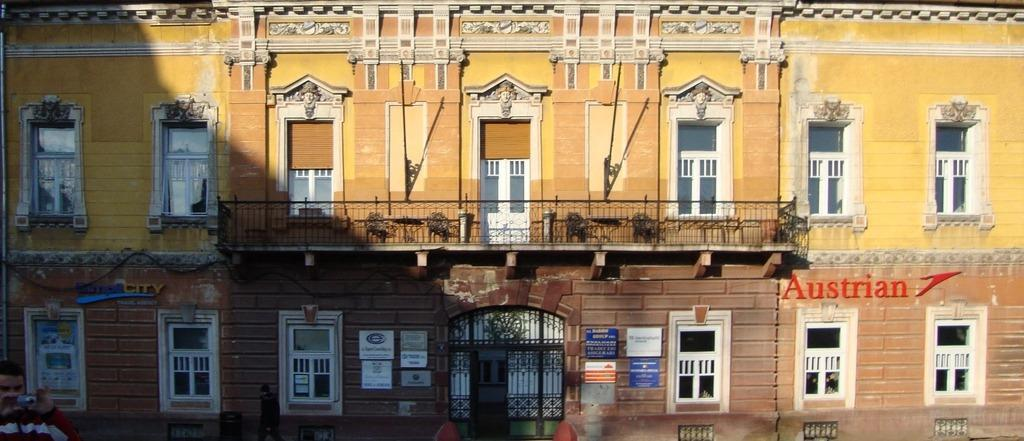window: (481, 119, 530, 244), (678, 120, 725, 217), (29, 121, 75, 216), (162, 122, 208, 217), (287, 122, 333, 217), (808, 122, 853, 219), (937, 122, 982, 216), (677, 325, 722, 405), (289, 325, 334, 404), (167, 324, 212, 403), (934, 320, 978, 400), (807, 323, 850, 402)
